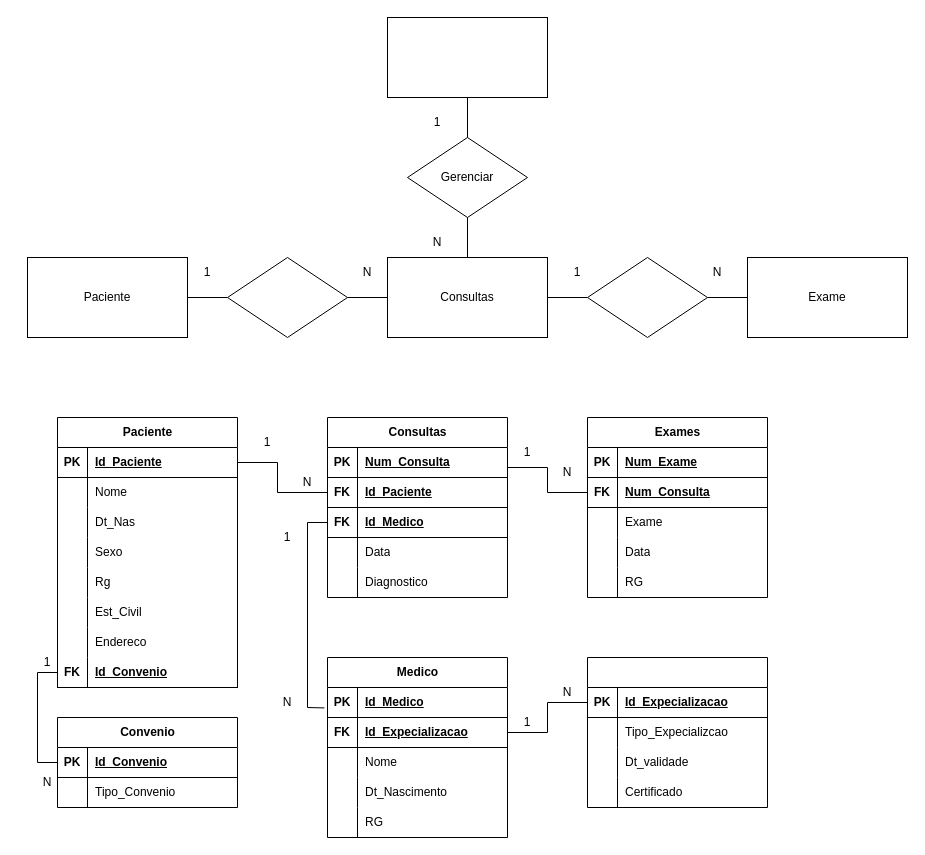
Some shapes in this 925 by 855 pixel diagram are drawn without their labels. The shapes that lost their labels are listed below. From the top down, each one's box as (x1, y1, x2, y2) in pixels, then its label:
(386, 16, 548, 98): Medicos
(226, 256, 348, 338): Marcar
(586, 256, 708, 338): Enviar
(586, 656, 768, 808): Expecialozacao
